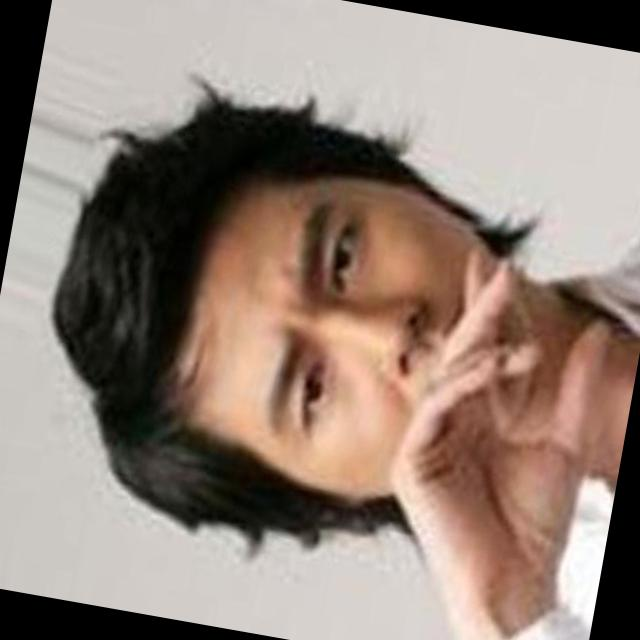bareface: (172, 157, 566, 530)
